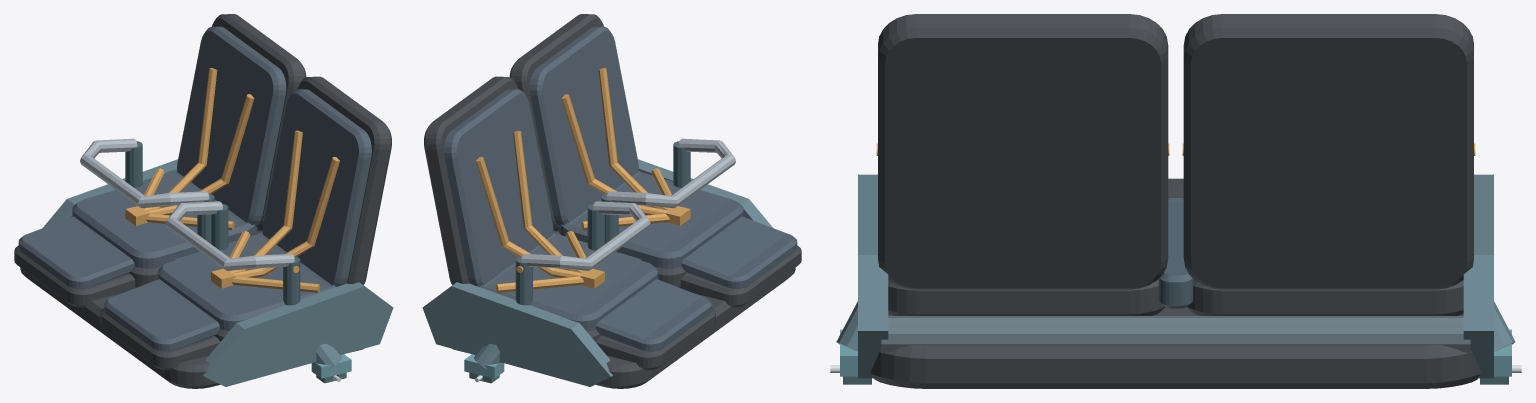
3 renders of one model, left to right at view 1: azimuth 30°, elevation 25°; view 2: azimuth 150°, elevation 25°; view 3: azimuth 270°, elevation 25°, orthographic. The views are drawn at different scales.
Parts seen in each view (by area): view 1: S10_Cabin, S10_Cabin_Mount_M; view 2: S10_Cabin, S10_Cabin_Mount_M; view 3: S10_Cabin, S10_Cabin_Mount_M.
Part boxes in pixels (x1,y1,x2,y2): S10_Cabin: (14,14,393,388); S10_Cabin_Mount_M: (311,343,351,383); S10_Cabin: (422,14,801,388); S10_Cabin_Mount_M: (464,343,504,383); S10_Cabin: (858,14,1493,388); S10_Cabin_Mount_M: (830,301,1521,384).
Size of the model in its own units: 0.4529 by 0.4355 by 0.664.
